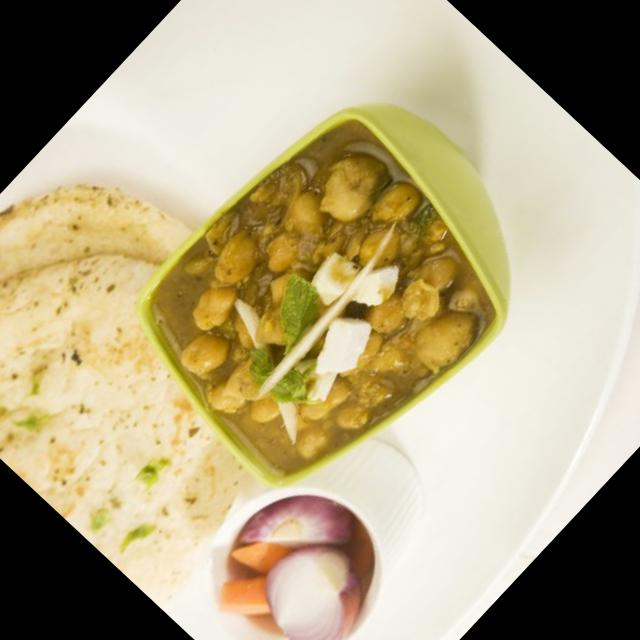Chole: (110, 93, 536, 521)
